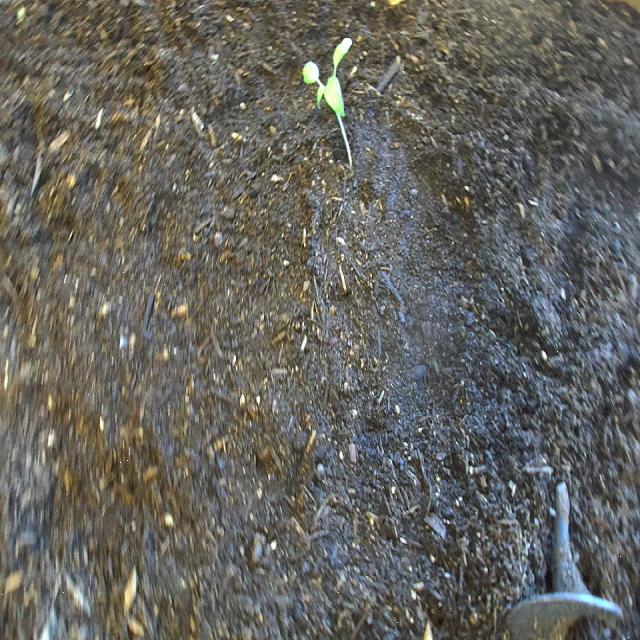Healthy: (302, 30, 359, 173)
